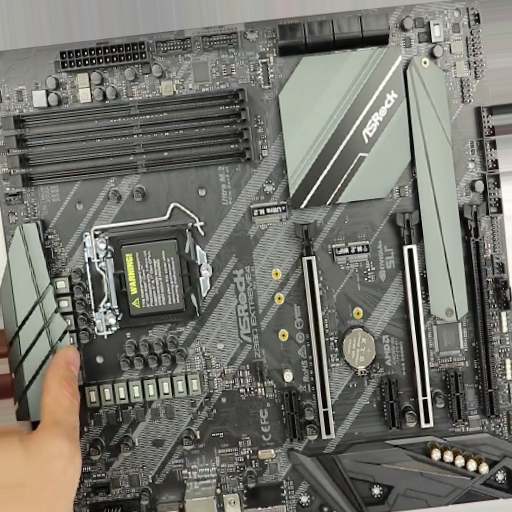CPU: (93, 226, 215, 326)
GPU: (292, 220, 339, 442), (392, 210, 438, 432)
MOTHERBOARD: (3, 3, 510, 510)
RAM: (8, 87, 254, 187)
SSD: (249, 199, 291, 226), (331, 238, 371, 266)
